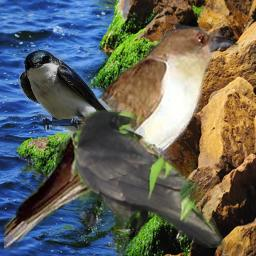Crow: (74, 110, 226, 248)
Cuckoo: (4, 24, 239, 251)
Swallow: (19, 50, 145, 156)
